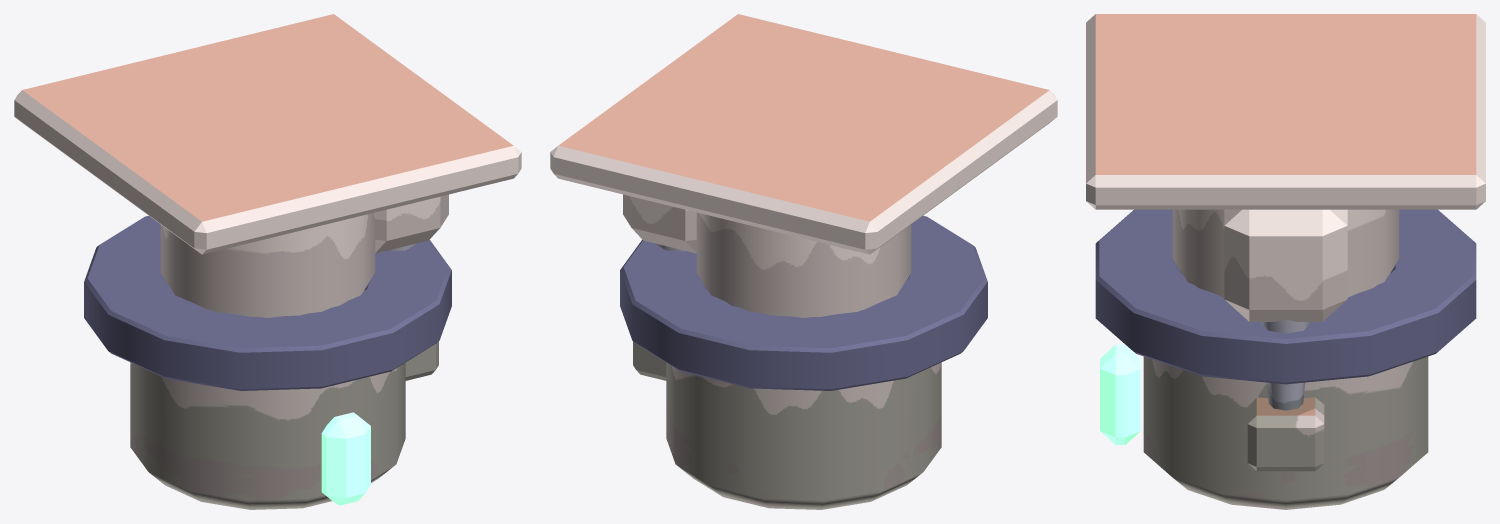
The model's file is R4X_IndependentSteering_LOD1.glb.
3 renders of one model, left to right at view 1: azimuth 30°, elevation 25°; view 2: azimuth 150°, elevation 25°; view 3: azimuth 270°, elevation 25°, orthographic. The views are drawn at different scales.
Parts seen in each view (by area): view 1: R4X_IndependentSteering_LOD1; view 2: R4X_IndependentSteering_LOD1; view 3: R4X_IndependentSteering_LOD1.
Part boxes in pixels (x1=…): R4X_IndependentSteering_LOD1: x1=14, y1=14, x2=521, y2=509; R4X_IndependentSteering_LOD1: x1=550, y1=14, x2=1057, y2=509; R4X_IndependentSteering_LOD1: x1=1086, y1=14, x2=1485, y2=509.
Bounding box in the file's own units: 0.52 × 0.52 × 0.52.
5 materials, 4 textured.
